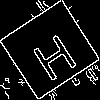H: (25, 24, 80, 84)
